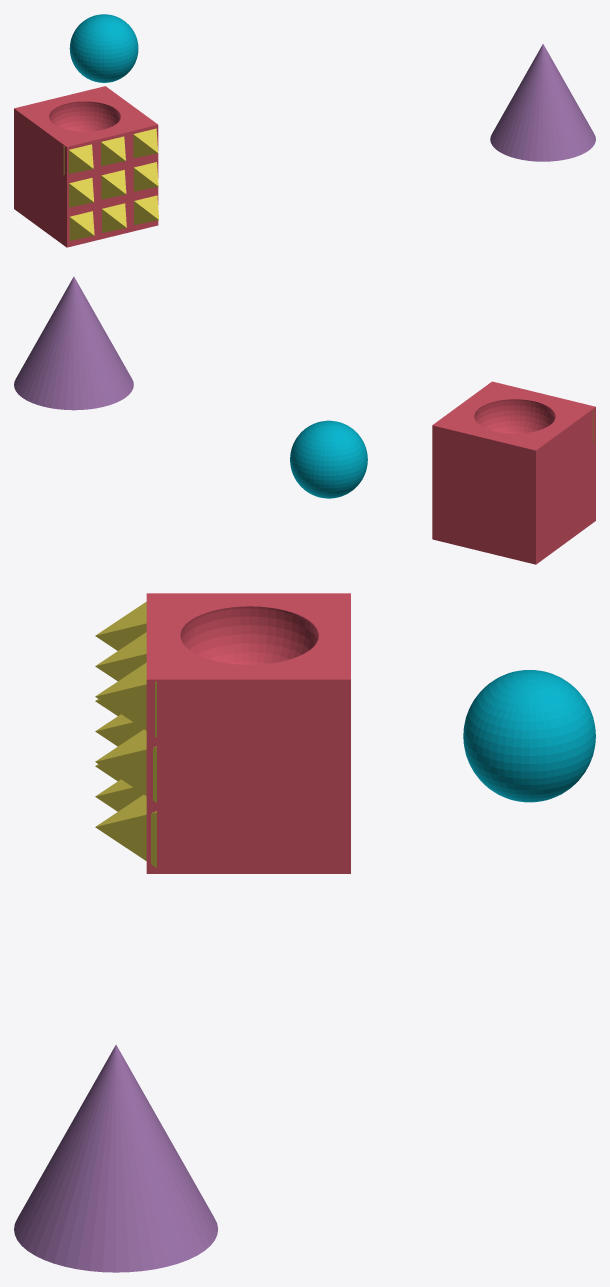
Rendered from naiah tuesday beck.glb.
The picture shows the model from 3 angles, top to bottom: view 1: azimuth 30°, elevation 25°; view 2: azimuth 150°, elevation 25°; view 3: azimuth 270°, elevation 25°; orthographic projection. The views are drawn at different scales.
Visible parts, largest first — view 1: Mesh_Mesh_head_geo.001_lambert2SG.001; view 2: Mesh_Mesh_head_geo.001_lambert2SG.001; view 3: Mesh_Mesh_head_geo.001_lambert2SG.001.
Part boxes in pixels (x1,y1,x2,y2): Mesh_Mesh_head_geo.001_lambert2SG.001: (14, 14, 595, 247); Mesh_Mesh_head_geo.001_lambert2SG.001: (14, 276, 595, 564); Mesh_Mesh_head_geo.001_lambert2SG.001: (14, 593, 595, 1272).
Bounding box in the file's own units: 0.1124 × 0.026 × 0.057.
